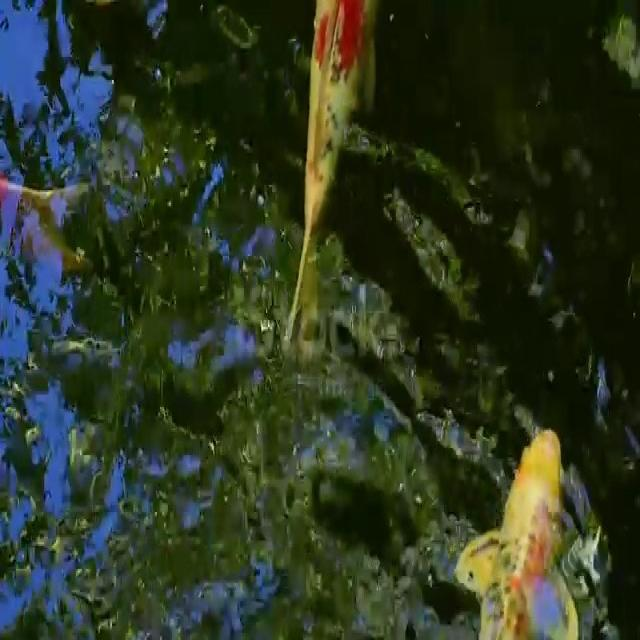fish: (276, 0, 406, 385), (450, 396, 596, 640)
